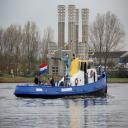tugboat: (13, 49, 110, 102)
